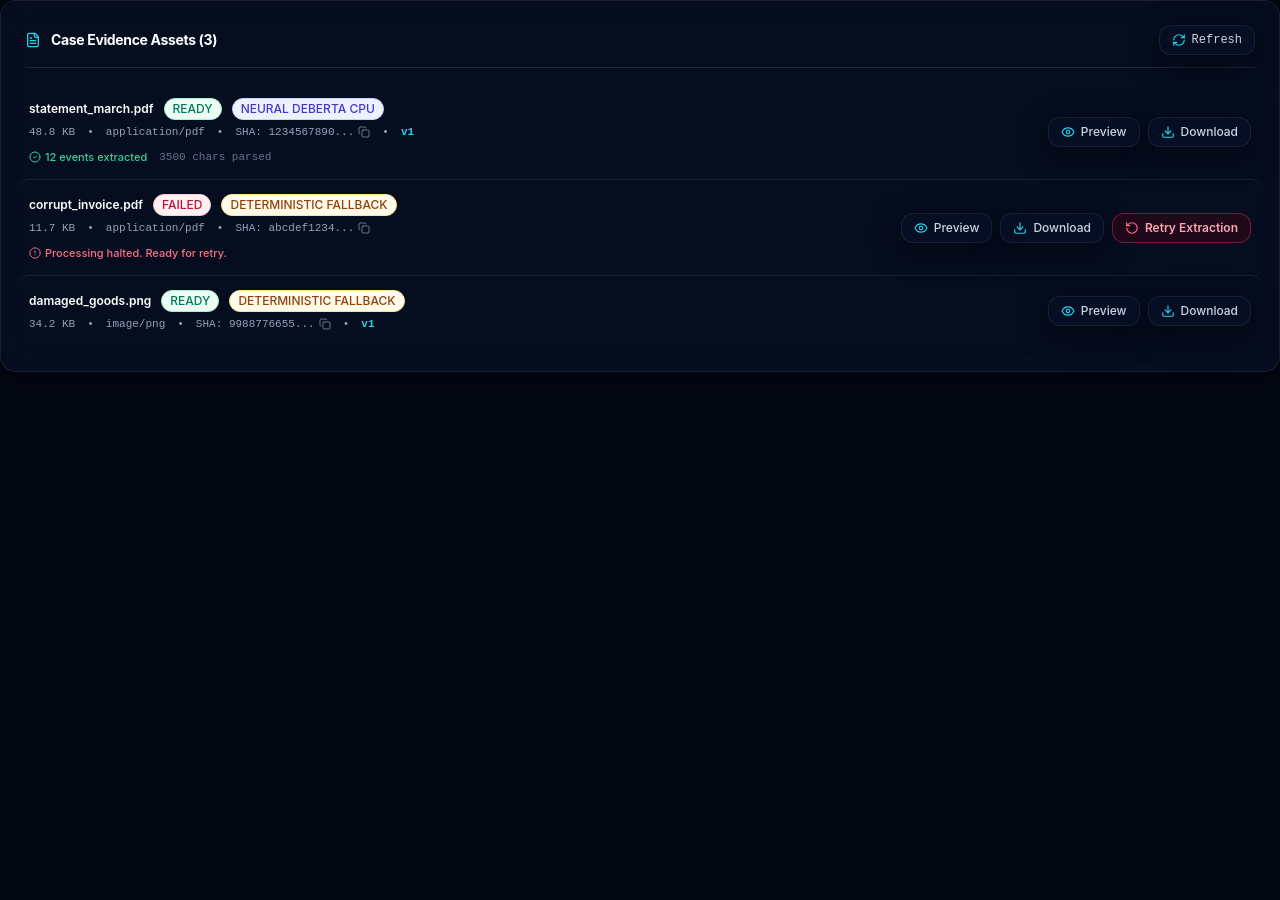
Test: EvidenceList › handles preview error gracefully when file is missing on ephemeral disk
Expected: the text "statement_march.pdf" is shown, 29,101 -> 154,117
Click the button "Preview" in the row of "48.8 KB": click(1094, 132) 1048,116 -> 1140,146
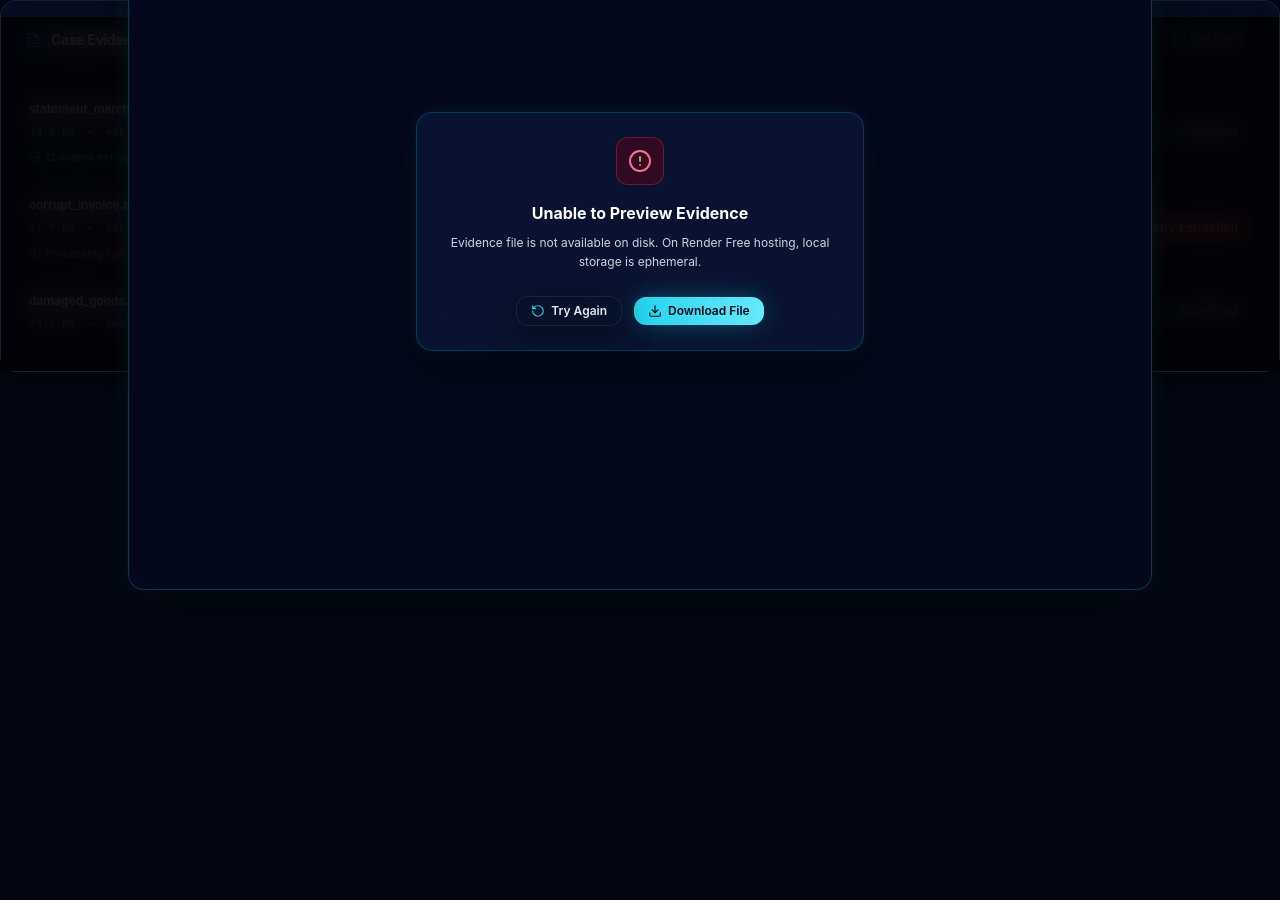
Now the heading "Unable to Preview Evidence" is shown, box 532,203 -> 748,223
Now the text "Render Free hosting, local storage is ephemeral" is shown, box 451,235 -> 829,269
